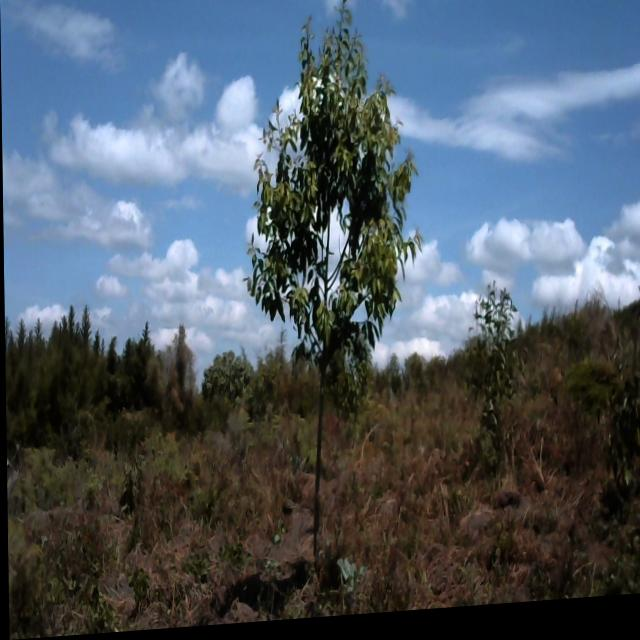Lemon Myrtle: (234, 0, 432, 573), (464, 277, 524, 466)
cedrus: (126, 317, 157, 404)
other: (197, 350, 249, 413)
